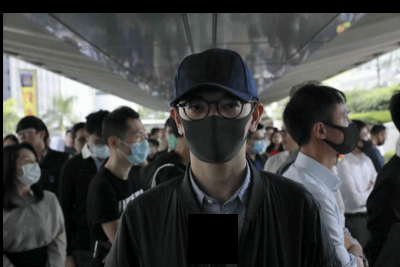with_mask: (182, 91, 252, 161), (326, 107, 362, 155), (119, 127, 151, 163), (15, 153, 42, 186), (90, 135, 111, 159), (359, 129, 373, 155), (252, 134, 267, 153)
without_mask: (19, 127, 41, 151)
